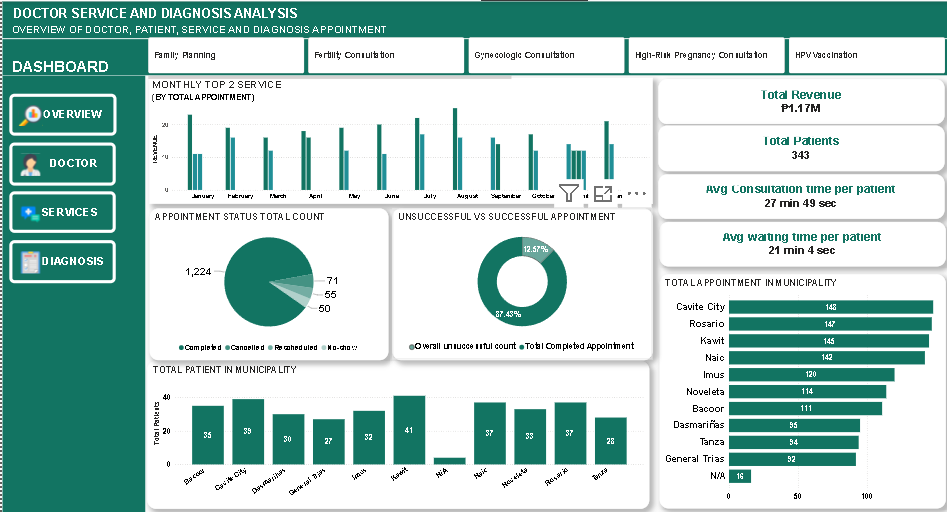

What the dashboard file says about the page in this screenshot:
{"tool":"powerbi","page":{"name":"SERVICE","canvas":[2000,1080],"ordinal":2},"visuals":[{"type":"group","id":"g1","title":"Group 3","box":[0,0,3094.1,1081.1],"z":0},{"type":"shape","box":[0,0,303,1080.8],"z":0,"group":"g1"},{"type":"shape","box":[0,0,3093.8,157.5],"z":1000,"group":"g1"},{"type":"textbox","box":[16.2,117.1,226.2,66.6],"z":1000},{"type":"clusteredColumnChart","title":"MONTHLY TOP 2 SERVICE","fields":{"Category":["Appointment_clean_data.appointment_date.Variation.Date Hierarchy.Month"],"Series":["Appointment_clean_data.service"],"Y":["Appointment_clean_data.Total Completed transaction"]},"box":[309.8,166.6,1061.2,265.9],"z":2000},{"type":"actionButton","box":[16.3,195.8,226.6,88.2],"z":3000,"group":"g1"},{"type":"clusteredColumnChart","title":"TOTAL PATIENT IN MUNICIPALITY","fields":{"Category":["Patient_clean_data.city_municipality"],"Y":["Appointment_clean_data.Total Patients"]},"box":[306.6,759,1059.5,312],"z":3000},{"type":"cardVisual","fields":{"Data":["Appointment_clean_data.Total Revenue"]},"box":[1384.3,164,603.9,95],"z":4000},{"type":"cardVisual","fields":{"Data":["Appointment_clean_data.Total Patients"]},"box":[1384.1,262.9,603.7,97],"z":5000},{"type":"actionButton","box":[15.2,297.5,224.6,91.1],"z":5000,"group":"g1"},{"type":"cardVisual","fields":{"Data":["Appointment_clean_data.Avg Consultation time per patient"]},"box":[1384.3,365.3,603.9,94.4],"z":6000},{"type":"cardVisual","fields":{"Data":["Appointment_clean_data.Avg waiting time per patient"]},"box":[1386.7,464.7,603.9,94.4],"z":7000},{"type":"clusteredBarChart","title":"TOTAL APPOINTMENT IN MUNICIPALITY","fields":{"Category":["Patient_clean_data.city_municipality"],"Y":["Appointment_clean_data.Total Completed transaction"]},"box":[1386.7,576.6,603.9,494.6],"z":8000},{"type":"advancedSlicerVisual","fields":{"Values":["Appointment_clean_data.service"]},"box":[303.4,72.1,1696.6,100.4],"z":9000},{"type":"pieChart","title":"APPOINTMENT STATUS TOTAL COUNT","fields":{"Category":["Appointment_clean_data.appointment_status"],"Series":["Appointment_clean_data.appointment_status"],"Y":["Appointment_clean_data.Overall_appointment"]},"box":[310.7,437.4,504.5,320.6],"z":10000},{"type":"actionButton","box":[15.2,400.8,224.6,88],"z":11000,"group":"g1"},{"type":"donutChart","title":"UNSUCCESSFUL VS SUCCESSFUL APPOINTMENT","fields":{"Y":["Appointment_clean_data.Overall unsuccessful count","Appointment_clean_data.Overall unsuccessful count","Appointment_clean_data.Total Completed Appointment"]},"box":[822.6,437.4,549.2,320.6],"z":11000},{"type":"actionButton","box":[15.2,504,224.6,91.1],"z":12000,"group":"g1"},{"type":"textbox","box":[16.8,4.2,633.2,44.2],"z":13000,"group":"g1"},{"type":"shape","box":[0,71.5,2000.5,14.7],"z":14000,"group":"g1"},{"type":"textbox","box":[16.2,44.4,817.9,42.4],"z":15000,"group":"g1"}]}

Visuals, with their boxes in screenshot pixels (x1, y1, x2, y2), scaled from the page's 2000x1080 canvas onto the 947x512 screenshot:
"Group 3" group: box=[0, 0, 946, 511]
shape: box=[0, 0, 143, 511]
shape: box=[0, 0, 946, 75]
textbox: box=[8, 56, 115, 87]
"MONTHLY TOP 2 SERVICE" clusteredColumnChart: box=[147, 79, 649, 205]
actionButton: box=[8, 93, 115, 135]
"TOTAL PATIENT IN MUNICIPALITY" clusteredColumnChart: box=[145, 360, 647, 508]
cardVisual - Appointment_clean_data.Total Revenue: box=[655, 78, 941, 123]
cardVisual - Appointment_clean_data.Total Patients: box=[655, 125, 941, 171]
actionButton: box=[7, 141, 114, 184]
cardVisual - Appointment_clean_data.Avg Consultation time per patient: box=[655, 173, 941, 218]
cardVisual - Appointment_clean_data.Avg waiting time per patient: box=[657, 220, 943, 265]
"TOTAL APPOINTMENT IN MUNICIPALITY" clusteredBarChart: box=[657, 273, 943, 508]
advancedSlicerVisual - Appointment_clean_data.service: box=[144, 34, 946, 82]
"APPOINTMENT STATUS TOTAL COUNT" pieChart: box=[147, 207, 386, 359]
actionButton: box=[7, 190, 114, 232]
"UNSUCCESSFUL VS SUCCESSFUL APPOINTMENT" donutChart: box=[390, 207, 650, 359]
actionButton: box=[7, 239, 114, 282]
textbox: box=[8, 2, 308, 23]
shape: box=[0, 34, 946, 41]
textbox: box=[8, 21, 395, 41]
